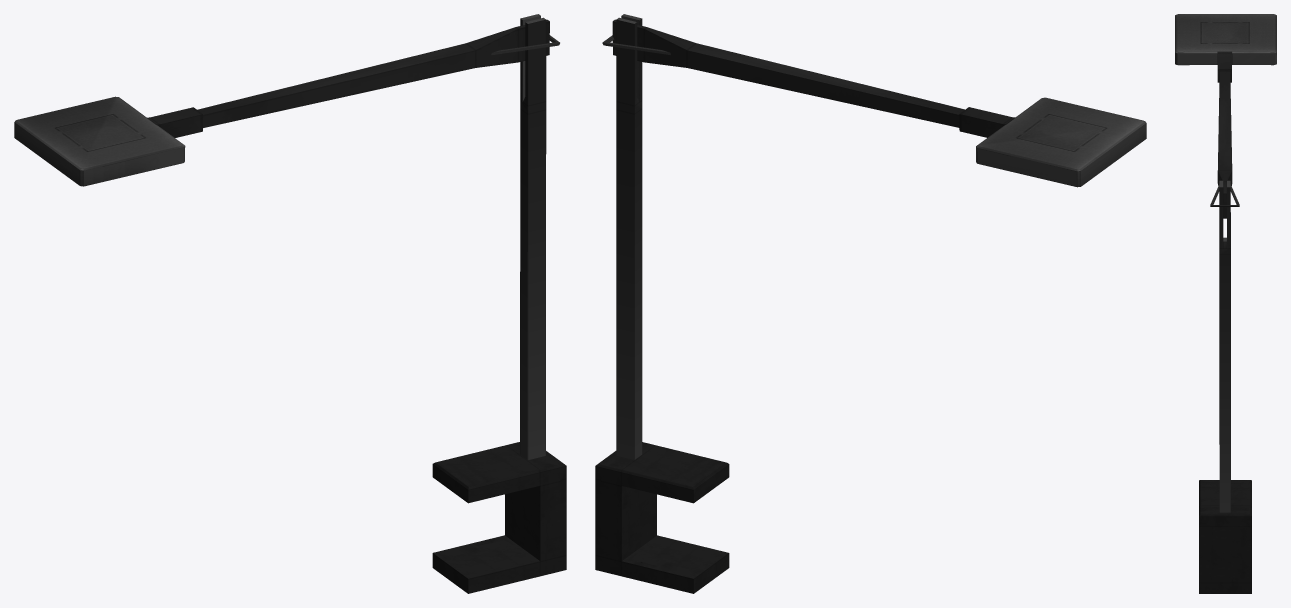
Rendered from Office_Lamp_2.fbx.
3 views of the same model, side by side, from view 1: azimuth 30°, elevation 25°; view 2: azimuth 150°, elevation 25°; view 3: azimuth 270°, elevation 25° (orthographic). The views are drawn at different scales.
Parts seen in each view (by area): view 1: Office_Lamp_2_Base, Office_Lamp_2_Upper; view 2: Office_Lamp_2_Base, Office_Lamp_2_Upper; view 3: Office_Lamp_2_Base, Office_Lamp_2_Upper.
Boxes of the visible parts, <box> form: Office_Lamp_2_Base: <box>432,14,566,593</box>; Office_Lamp_2_Upper: <box>14,19,559,186</box>; Office_Lamp_2_Base: <box>595,14,729,593</box>; Office_Lamp_2_Upper: <box>602,19,1146,187</box>; Office_Lamp_2_Base: <box>1199,180,1251,593</box>; Office_Lamp_2_Upper: <box>1175,14,1276,218</box>.
Bounding box in the file's own units: 45.47 × 46.85 × 10.71.
